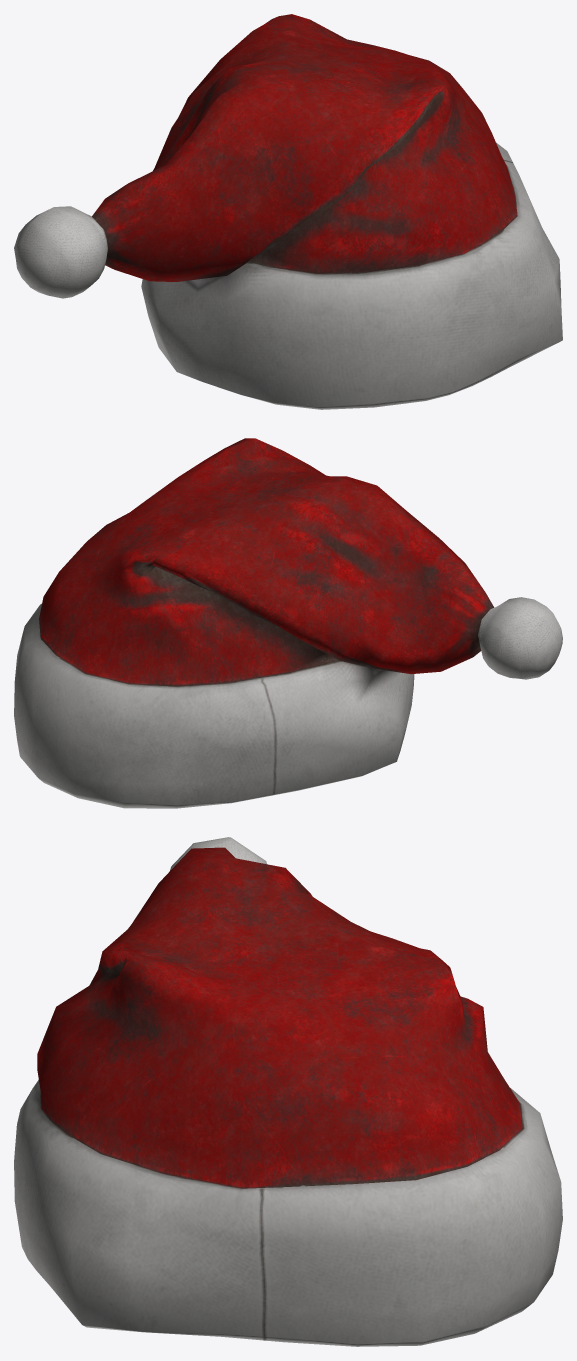
File: christmas_hat.glb
3 renders of one model, top to bottom at view 1: azimuth 30°, elevation 25°; view 2: azimuth 150°, elevation 25°; view 3: azimuth 270°, elevation 25°, orthographic. The views are drawn at different scales.
Visible parts, largest first — view 1: christmas_hat; view 2: christmas_hat; view 3: christmas_hat.
Part boxes in pixels (box(x1,y1,x2,y2)): christmas_hat: box(14, 14, 562, 409); christmas_hat: box(14, 438, 562, 808); christmas_hat: box(14, 837, 562, 1346).
Size of the model in its own units: 2.51 by 1.34 by 1.95.
1 material, 1 textured.
